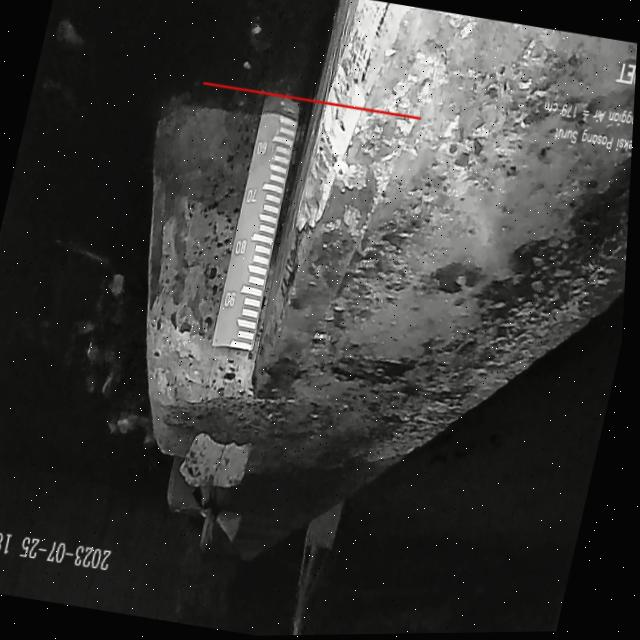water-meter: (197, 92, 312, 364)
